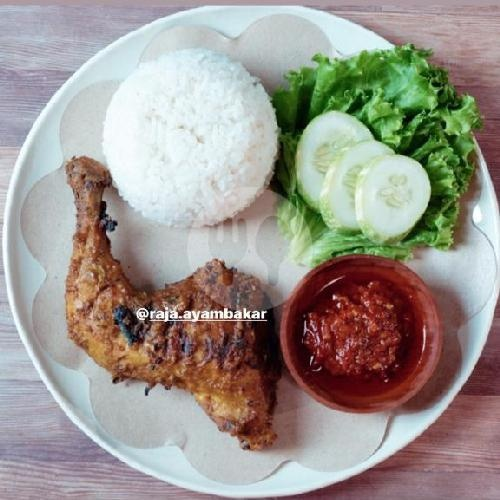ayam_goreng: (40, 152, 284, 455)
